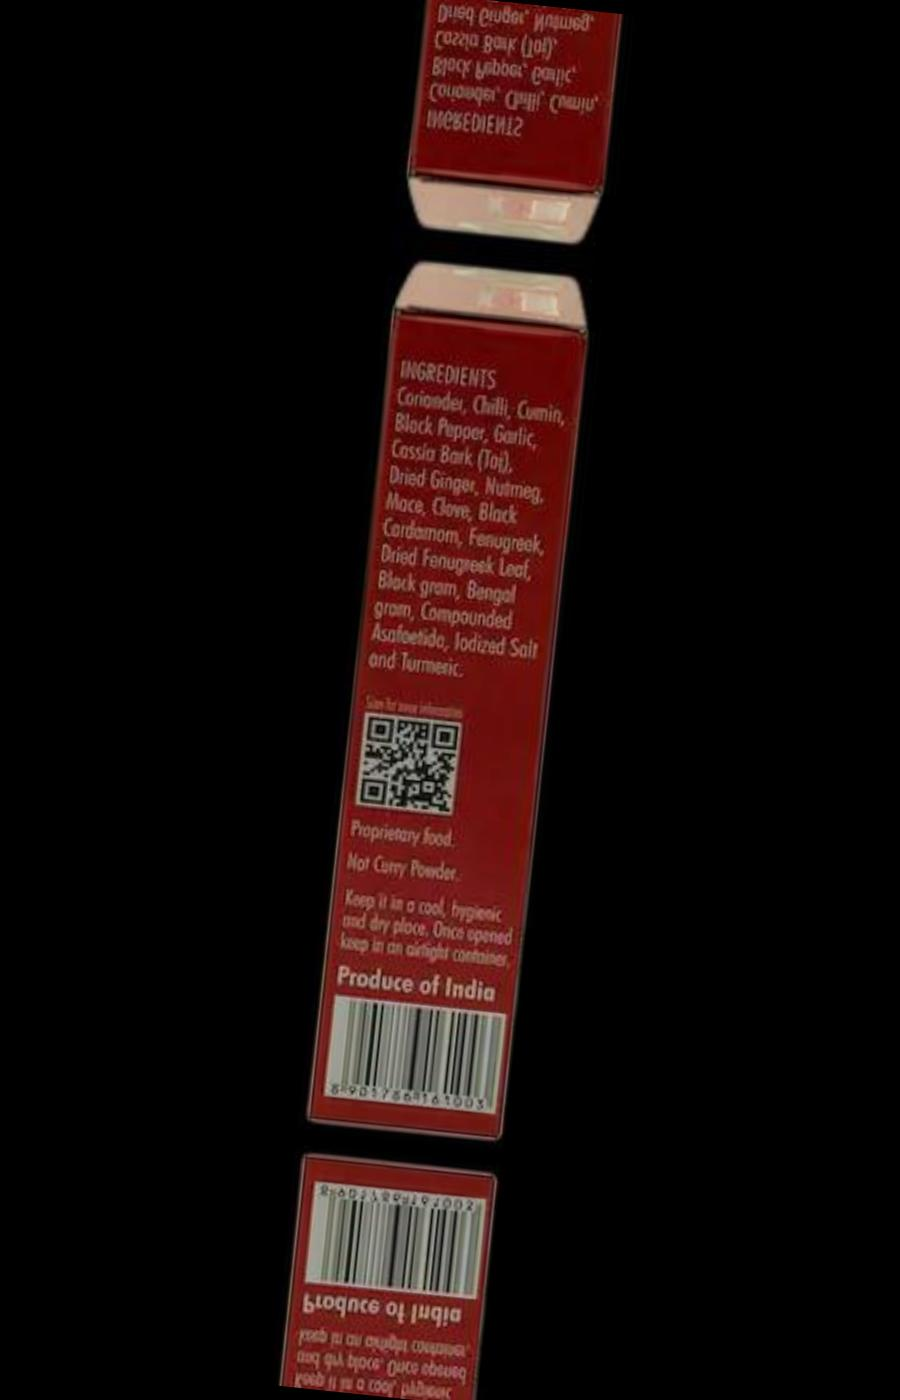Everest Chicken Masala 100 g: (302, 256, 606, 1147), (274, 1148, 512, 1400), (396, 0, 633, 249)
